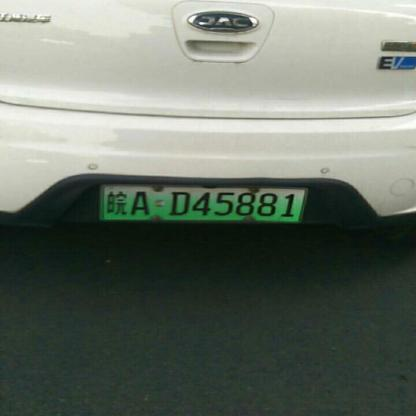lp: (103, 185, 304, 220)
